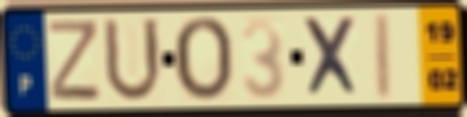3: (240, 15, 287, 102)
I: (373, 10, 395, 104)
O: (170, 14, 236, 104)
U: (100, 15, 165, 107)
X: (299, 15, 365, 100)
Z: (46, 17, 103, 104)
